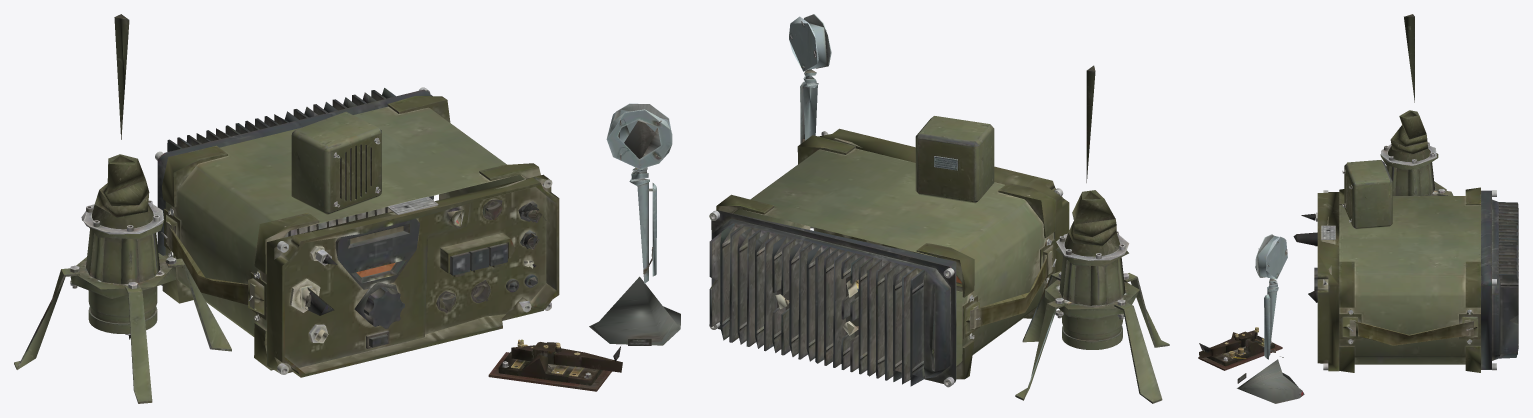
Rendered from vintage_radio_transceiver.glb.
3 renders of one model, left to right at view 1: azimuth 30°, elevation 25°; view 2: azimuth 150°, elevation 25°; view 3: azimuth 270°, elevation 25°, orthographic. The views are drawn at different scales.
Parts seen in each view (by area): view 1: vintage_radio_transceiver, vintage_radio_transceiver_cable; view 2: vintage_radio_transceiver, vintage_radio_transceiver_cable; view 3: vintage_radio_transceiver, vintage_radio_transceiver_cable.
Boxes of the visible parts, x1,y1,x2,y2 form: vintage_radio_transceiver: (155,87,559,377); vintage_radio_transceiver_cable: (14,14,680,403); vintage_radio_transceiver: (709,128,1069,387); vintage_radio_transceiver_cable: (789,14,1169,403); vintage_radio_transceiver: (1314,187,1518,372); vintage_radio_transceiver_cable: (1198,14,1453,403).
Bounding box in the file's own units: 0.5639 × 0.3317 × 0.4102.
Materials: 2 (2 with a texture image).
